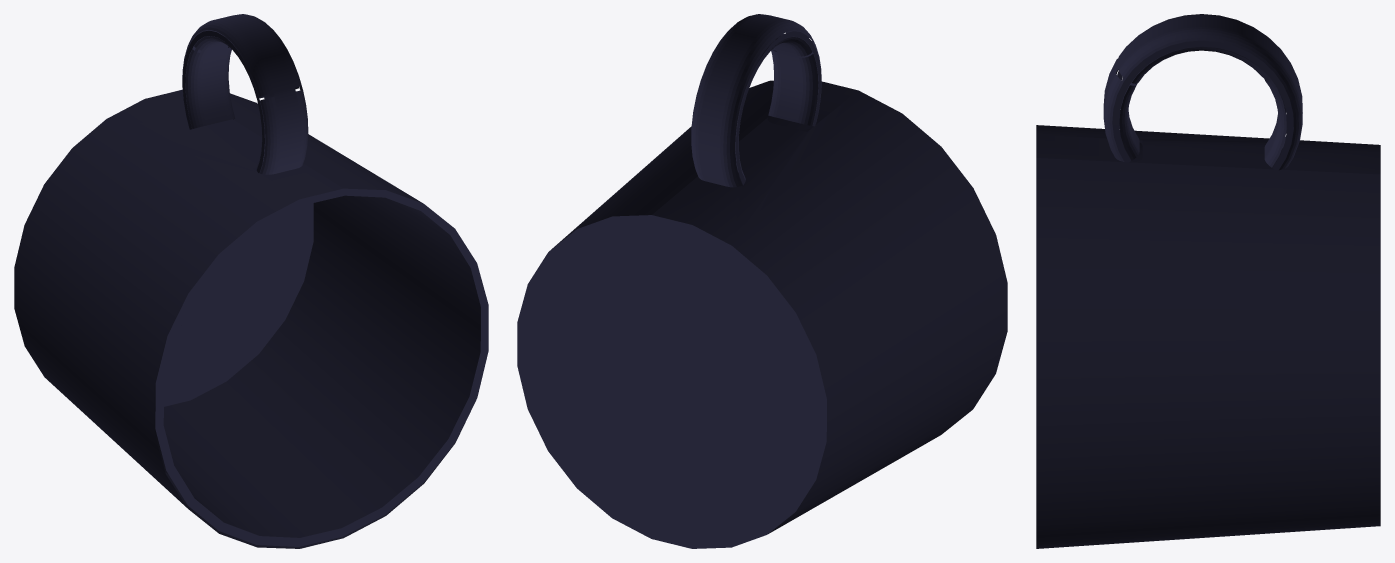
The model's file is model_align.obj.
The picture shows the model from 3 angles, left to right: view 1: azimuth 30°, elevation 25°; view 2: azimuth 150°, elevation 25°; view 3: azimuth 270°, elevation 25°; orthographic projection. The views are drawn at different scales.
Visible parts, largest first — view 1: mesh1_mesh1-geometry, mesh3_mesh3-geometry, mesh2_mesh2-geometry; view 2: mesh1_mesh1-geometry, mesh3_mesh3-geometry, mesh2_mesh2-geometry; view 3: mesh1_mesh1-geometry, mesh3_mesh3-geometry.
Part boxes in pixels (bbox=[...]): mesh1_mesh1-geometry: bbox=[14, 14, 488, 548]; mesh3_mesh3-geometry: bbox=[185, 36, 298, 169]; mesh2_mesh2-geometry: bbox=[182, 30, 264, 172]; mesh1_mesh1-geometry: bbox=[517, 14, 1007, 548]; mesh3_mesh3-geometry: bbox=[735, 37, 818, 180]; mesh2_mesh2-geometry: bbox=[735, 31, 821, 185]; mesh1_mesh1-geometry: bbox=[1036, 14, 1380, 548]; mesh3_mesh3-geometry: bbox=[1119, 46, 1286, 167].
Size of the model in its own units: 0.0929 by 0.1234 by 0.076.
